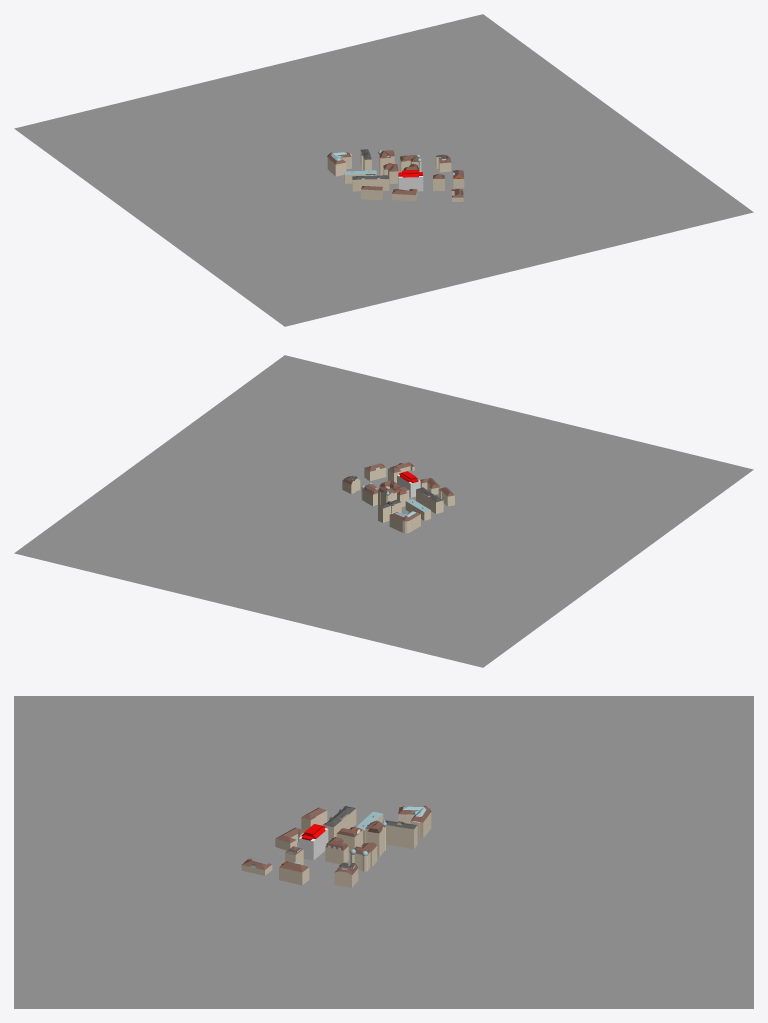
3 renders of one model, top to bottom at view 1: azimuth 30°, elevation 25°; view 2: azimuth 150°, elevation 25°; view 3: azimuth 270°, elevation 25°, orthographic. The views are drawn at different scales.
Parts seen in each view (by area): view 1: 0; view 2: 0; view 3: 0.
Part boxes in pixels (x1,y1,x2,y2): 0: (14,14,753,326); 0: (14,355,753,667); 0: (14,696,753,1008).
Bounding box in the file's own units: 817 × 37.15 × 817.
